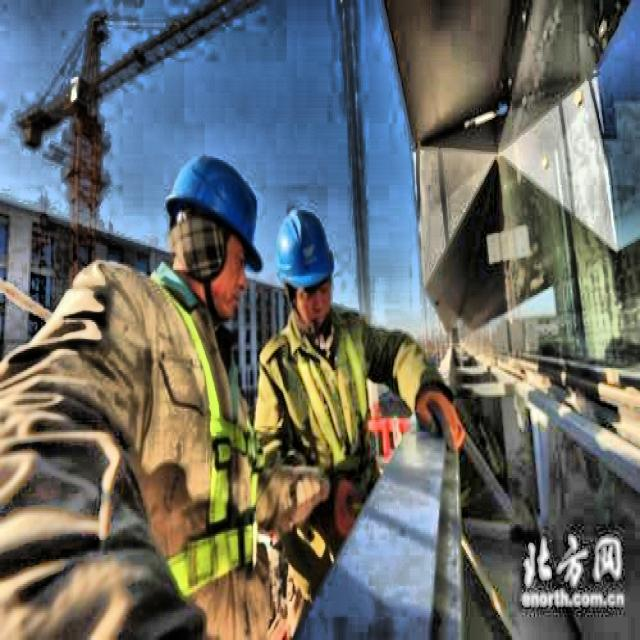helmet: (153, 147, 260, 310), (269, 200, 335, 334)
